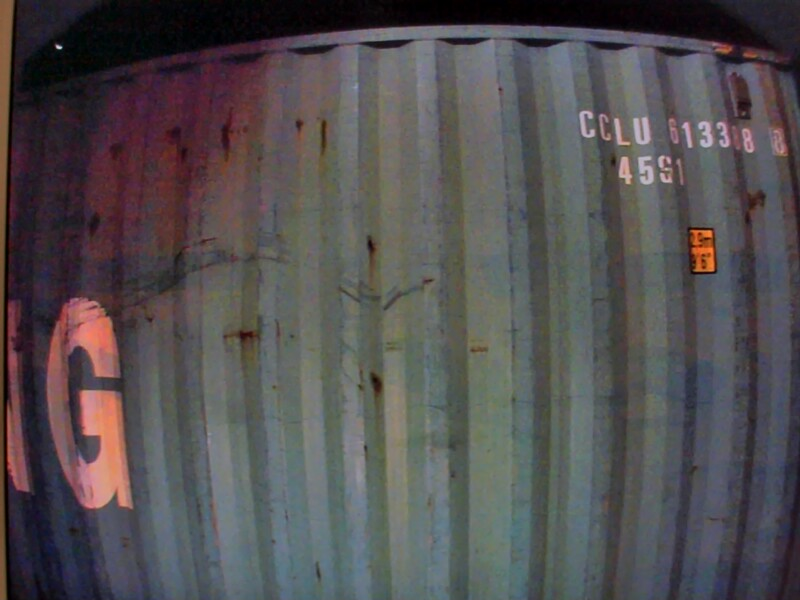container_no_door: (116, 59, 712, 573)
